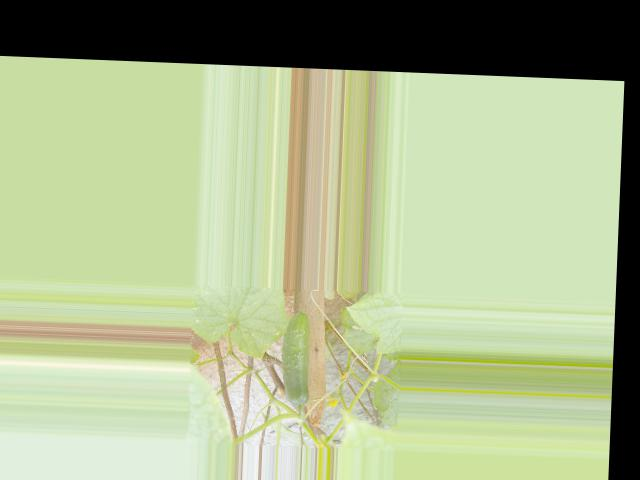cucumber: (280, 311, 313, 406)
